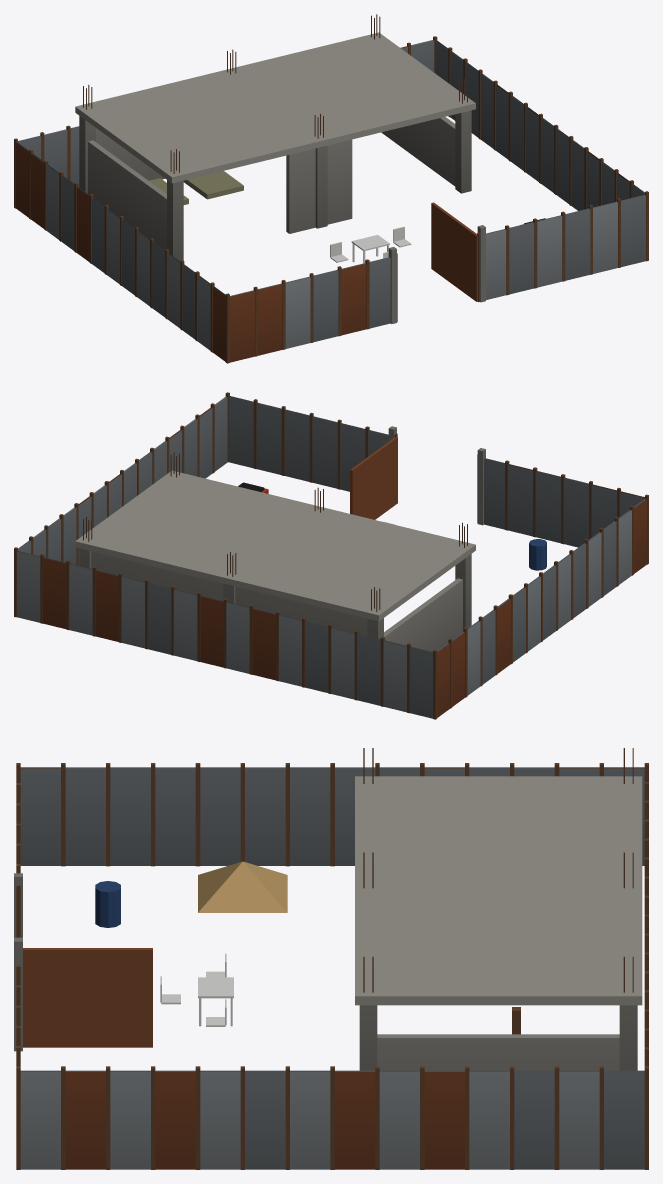
The model's file is ub_den.glb.
3 views of the same model, one above another, from view 1: azimuth 30°, elevation 25°; view 2: azimuth 150°, elevation 25°; view 3: azimuth 270°, elevation 25° (orthographic). The views are drawn at different scales.
Parts seen in each view (by area): view 1: ub_den; view 2: ub_den; view 3: ub_den.
Boxes of the visible parts, x1,y1,x2,y2 form: ub_den: (14, 14, 648, 363); ub_den: (14, 392, 648, 719); ub_den: (14, 748, 648, 1169).
Size of the model in its own units: 16.1 by 4 by 14.15.
